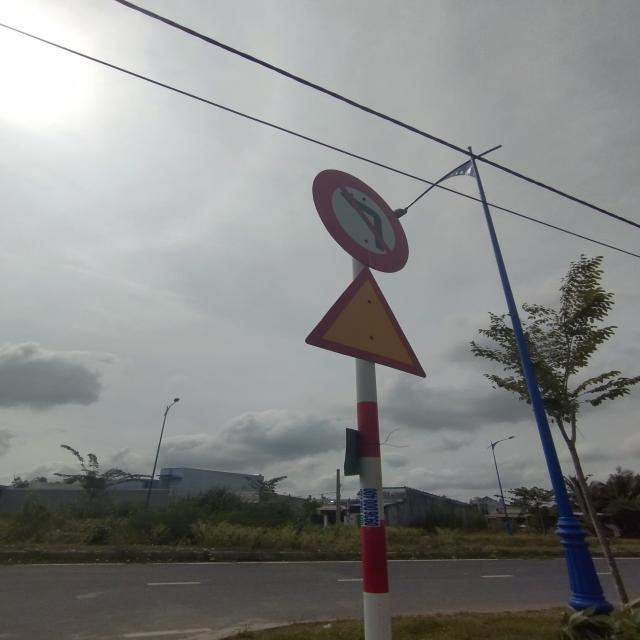Cam_Re_Trai: (312, 169, 409, 273)
Gioi_Han_Toc_Do_25: (305, 266, 427, 378)
